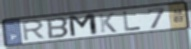7: (146, 6, 167, 30)
B: (46, 16, 71, 40)
K: (97, 12, 118, 34)
L: (122, 10, 143, 32)
M: (67, 12, 101, 39)
R: (21, 19, 48, 42)
